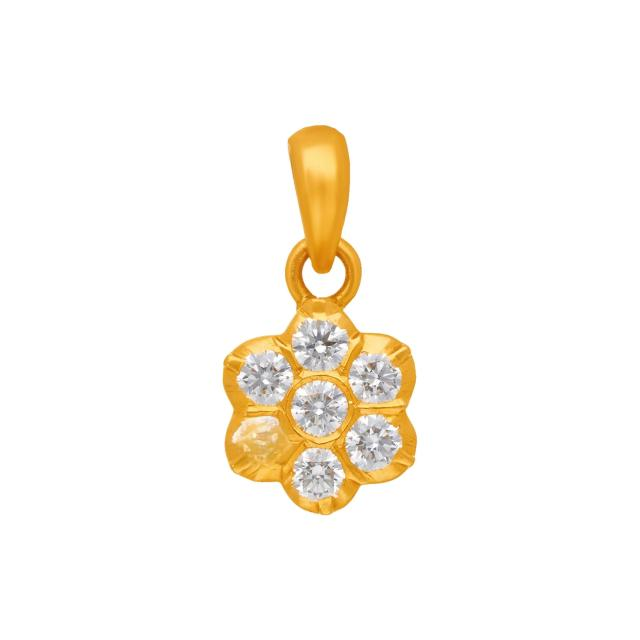missing gem: (236, 416, 290, 470)
